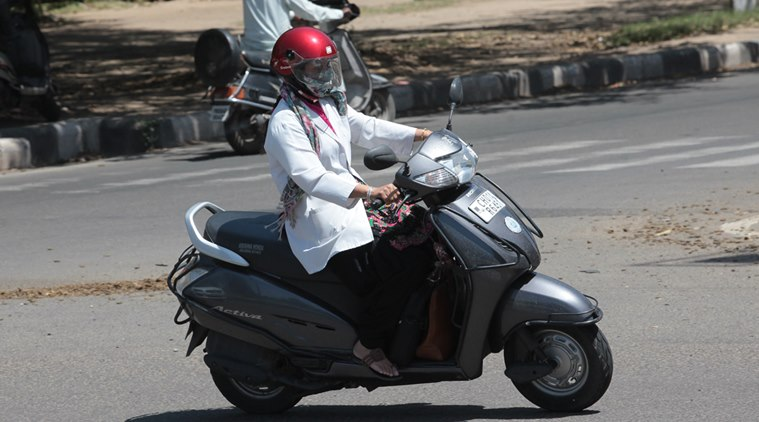helmet: (247, 25, 409, 188)
